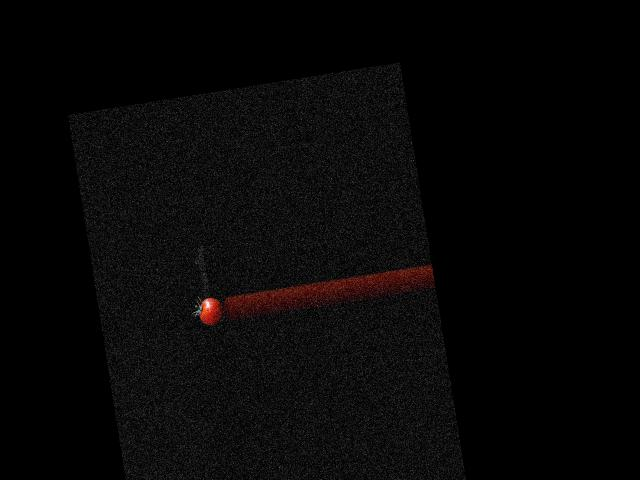tomato: (197, 295, 224, 326)
